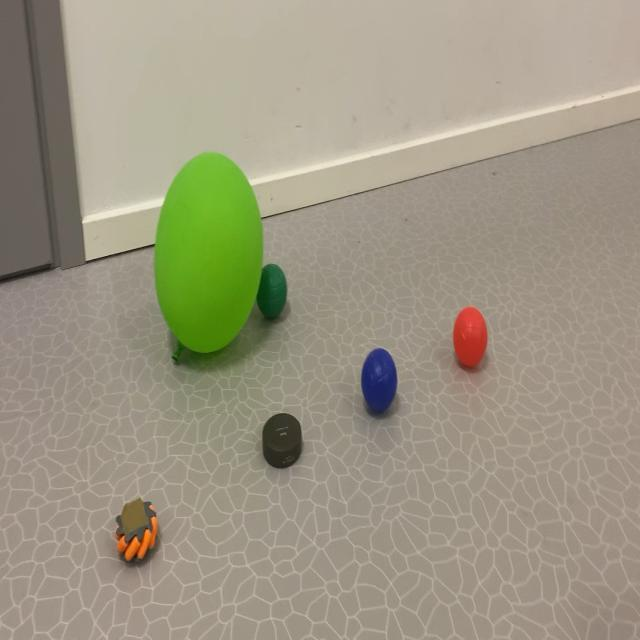blue ball: (356, 355, 401, 411)
green ball: (262, 256, 298, 318)
red ball: (446, 307, 501, 377)
